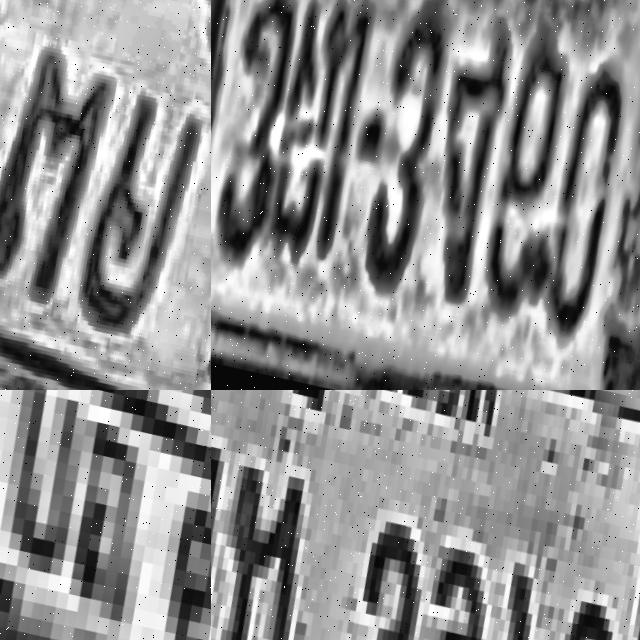license-plate: (211, 0, 640, 390), (211, 390, 640, 640), (0, 0, 211, 390), (0, 390, 211, 640)
